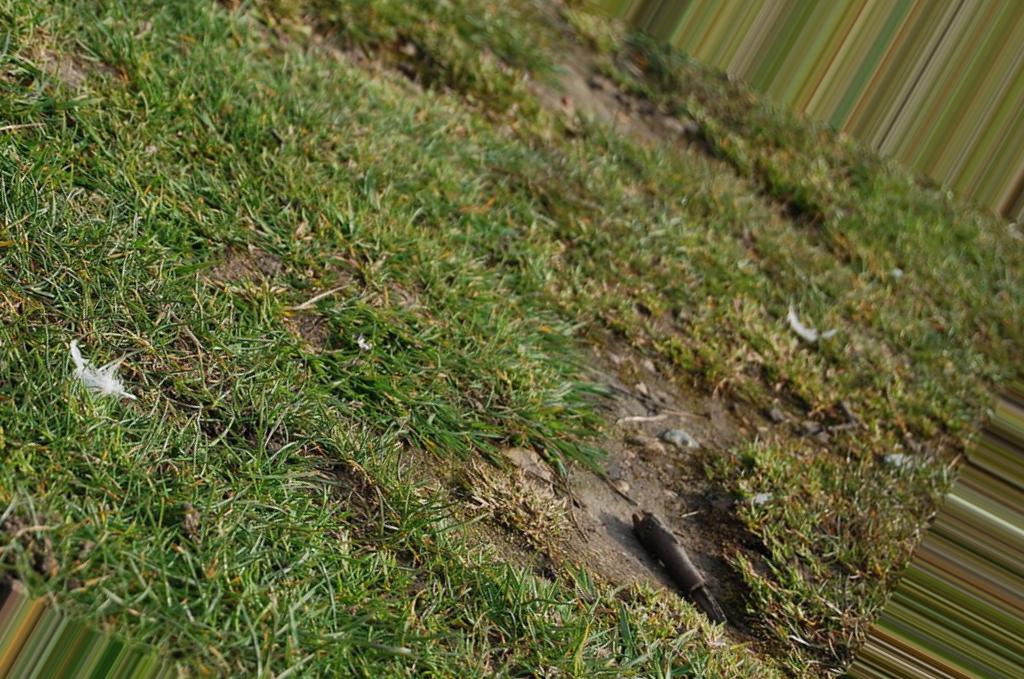patch: (597, 355, 716, 595), (567, 66, 630, 118)
